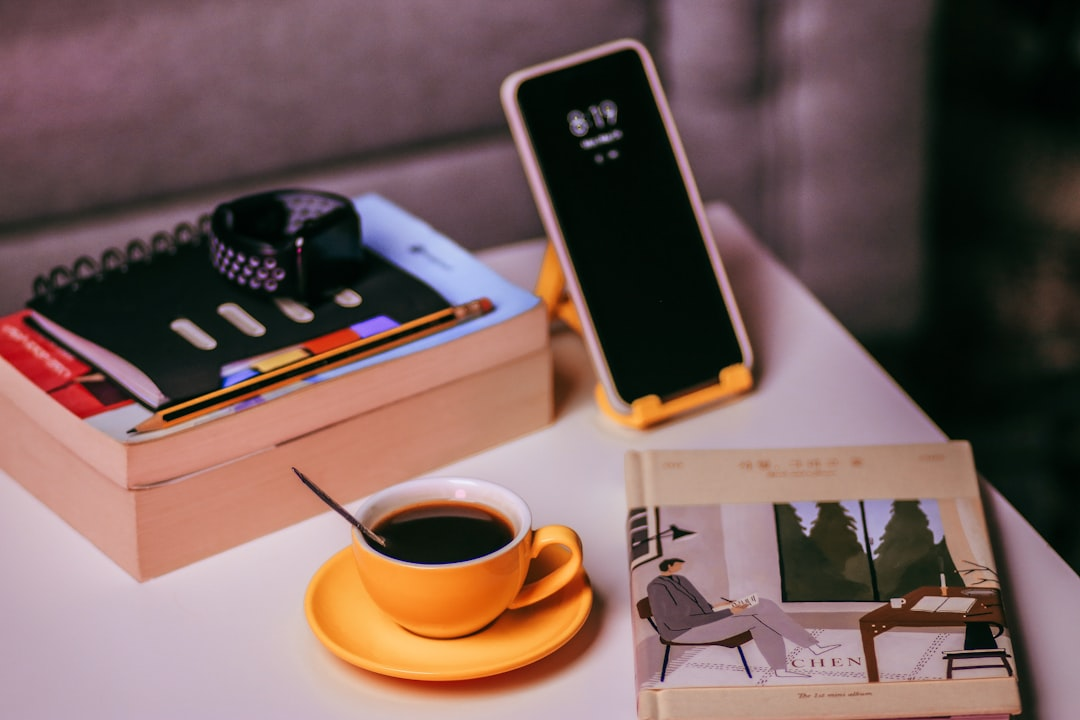phone: (500, 38, 753, 411)
